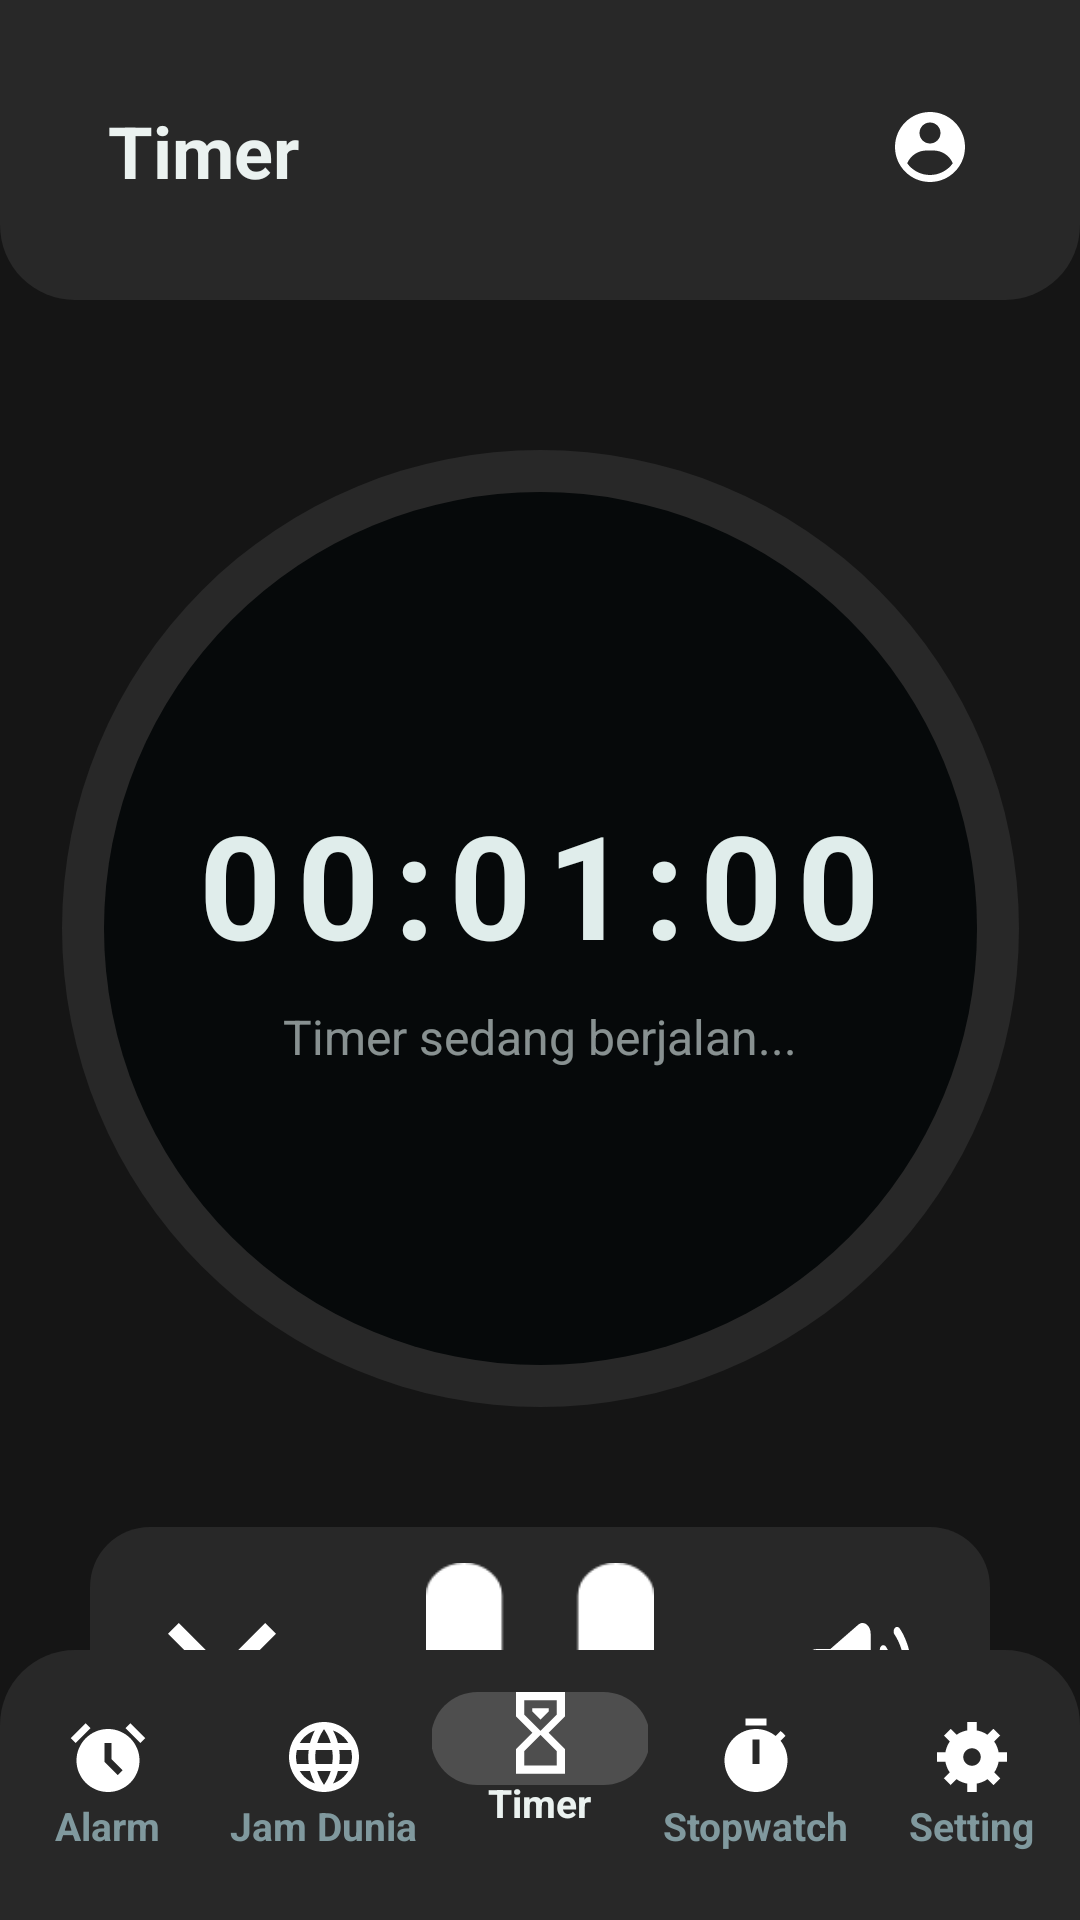

Where icons sit on this 1080w x 1920h app screen, as {"left": x1, "top": y1, "right": x2, "bottom": y2}:
profile: {"left": 895, "top": 112, "right": 965, "bottom": 182}
